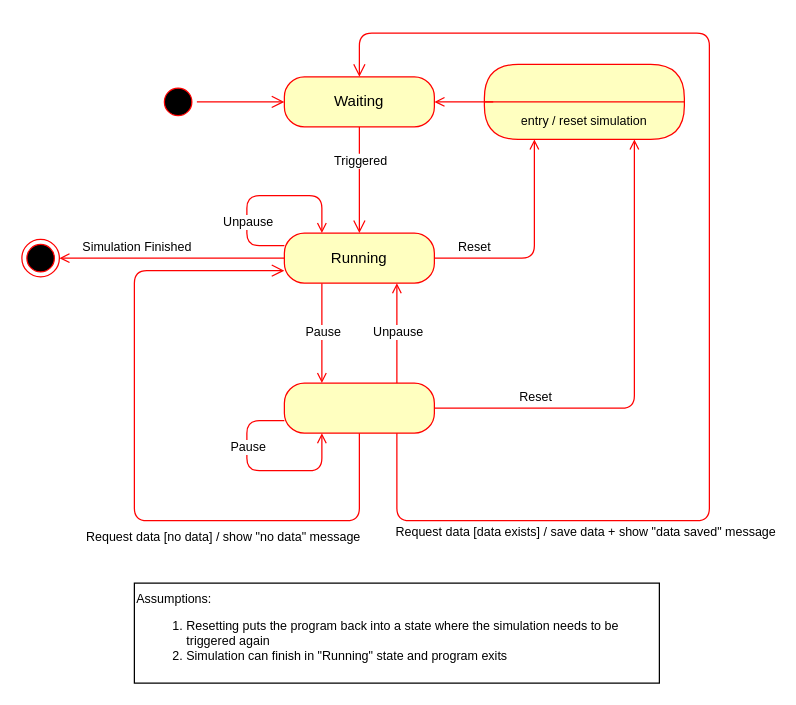
Image size: 796x705. Some labels were removed from this diagram. Here are the shapes that lost their labels. From the top down, the box of each, then its label:
(483, 63, 684, 139): Resetting
(283, 382, 434, 433): Paused
